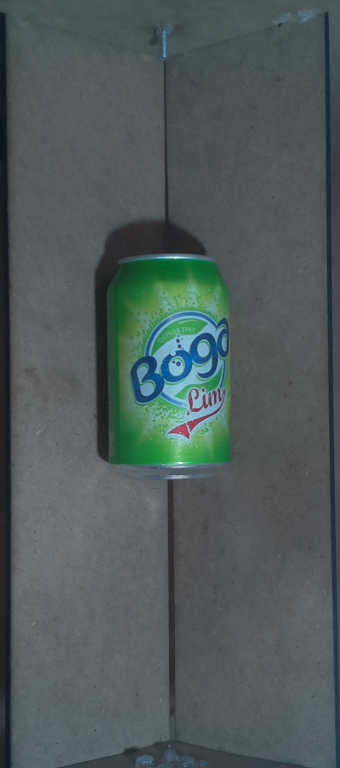Canette: (98, 249, 246, 492)
